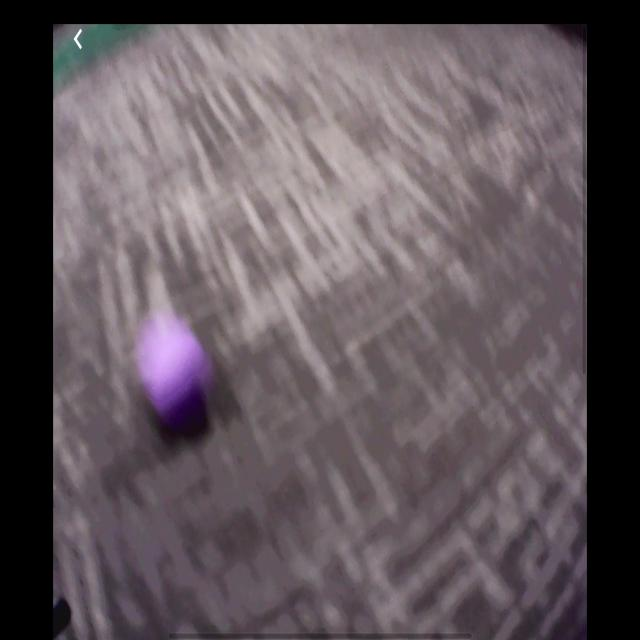ball: (143, 322, 208, 423)
